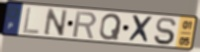L: (21, 6, 41, 35)
N: (43, 7, 69, 37)
Q: (98, 13, 123, 41)
R: (71, 10, 98, 40)
S: (152, 17, 178, 47)
X: (127, 14, 154, 45)
